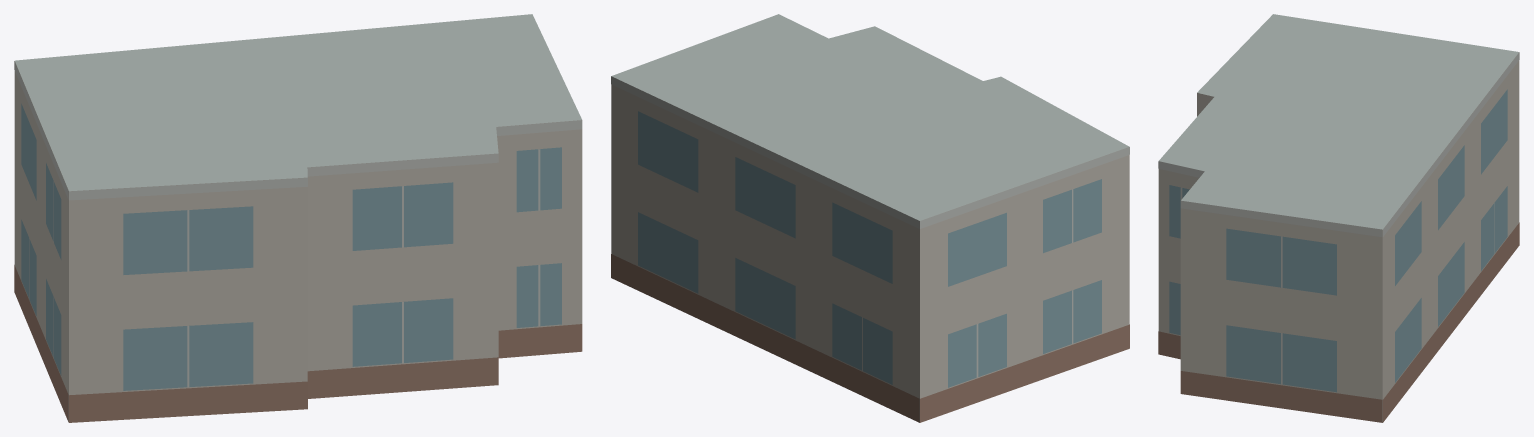
The model's file is survey-upis-32724884.glb.
3 renders of one model, left to right at view 1: azimuth 30°, elevation 25°; view 2: azimuth 150°, elevation 25°; view 3: azimuth 270°, elevation 25°, orthographic. The views are drawn at different scales.
Visible parts, largest first — view 1: survey-upis-32724884.tmp; view 2: survey-upis-32724884.tmp; view 3: survey-upis-32724884.tmp.
Part boxes in pixels (box(x1,y1,x2,y2)): survey-upis-32724884.tmp: box(14, 14, 582, 422); survey-upis-32724884.tmp: box(611, 14, 1129, 422); survey-upis-32724884.tmp: box(1158, 14, 1519, 422).
Size of the model in its own units: 14.6 by 6.1 by 10.33.
